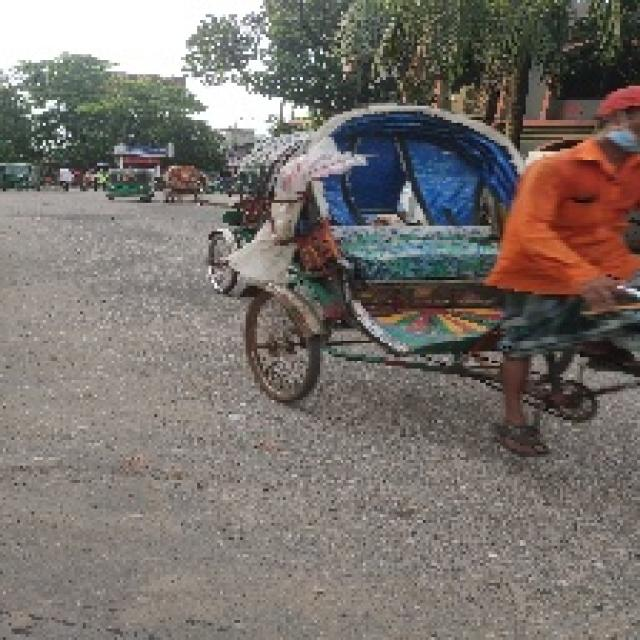rickshaw: (245, 100, 634, 441)
